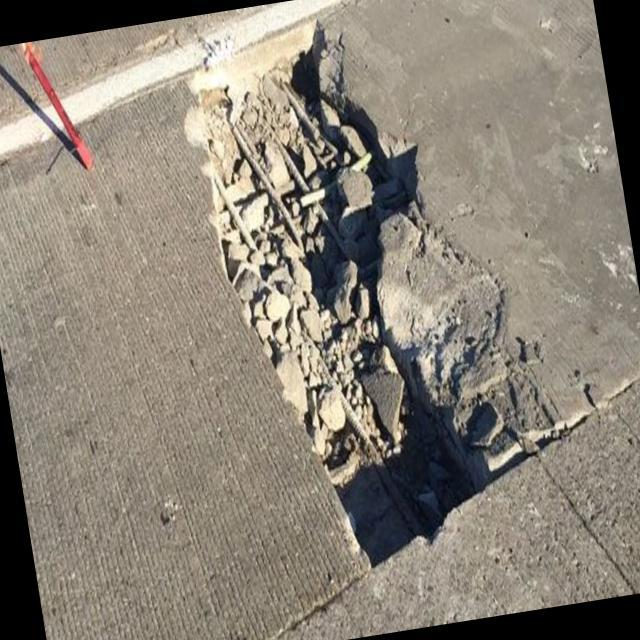Pothole: (178, 25, 549, 592)
